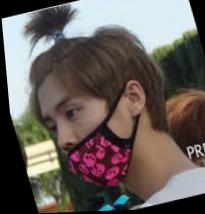WRONG: (33, 84, 136, 201)
